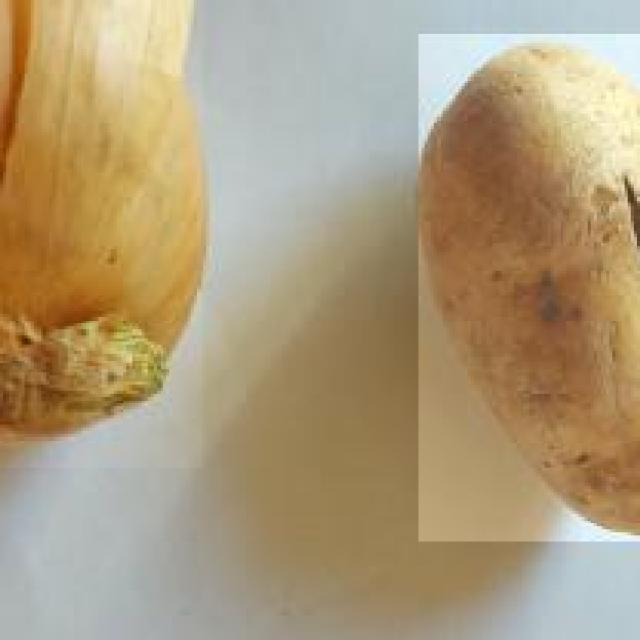onion: (0, 0, 206, 471)
potato: (415, 33, 640, 544)
